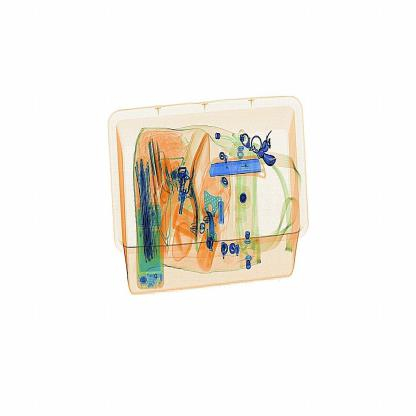pliers: (193, 148, 279, 192)
